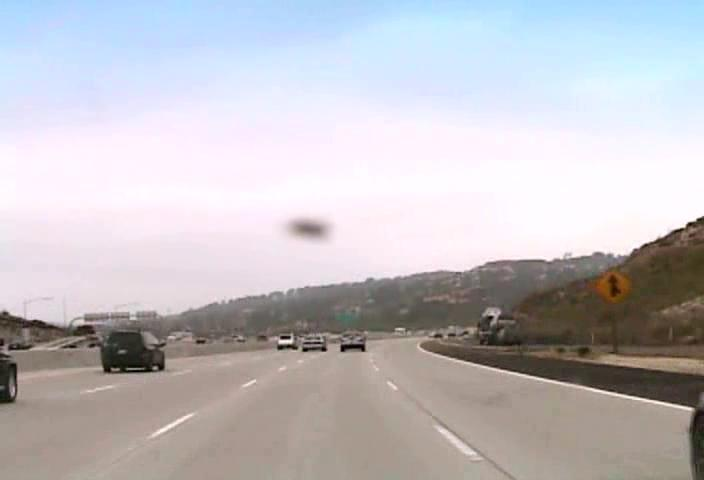merge: (593, 268, 632, 306)
